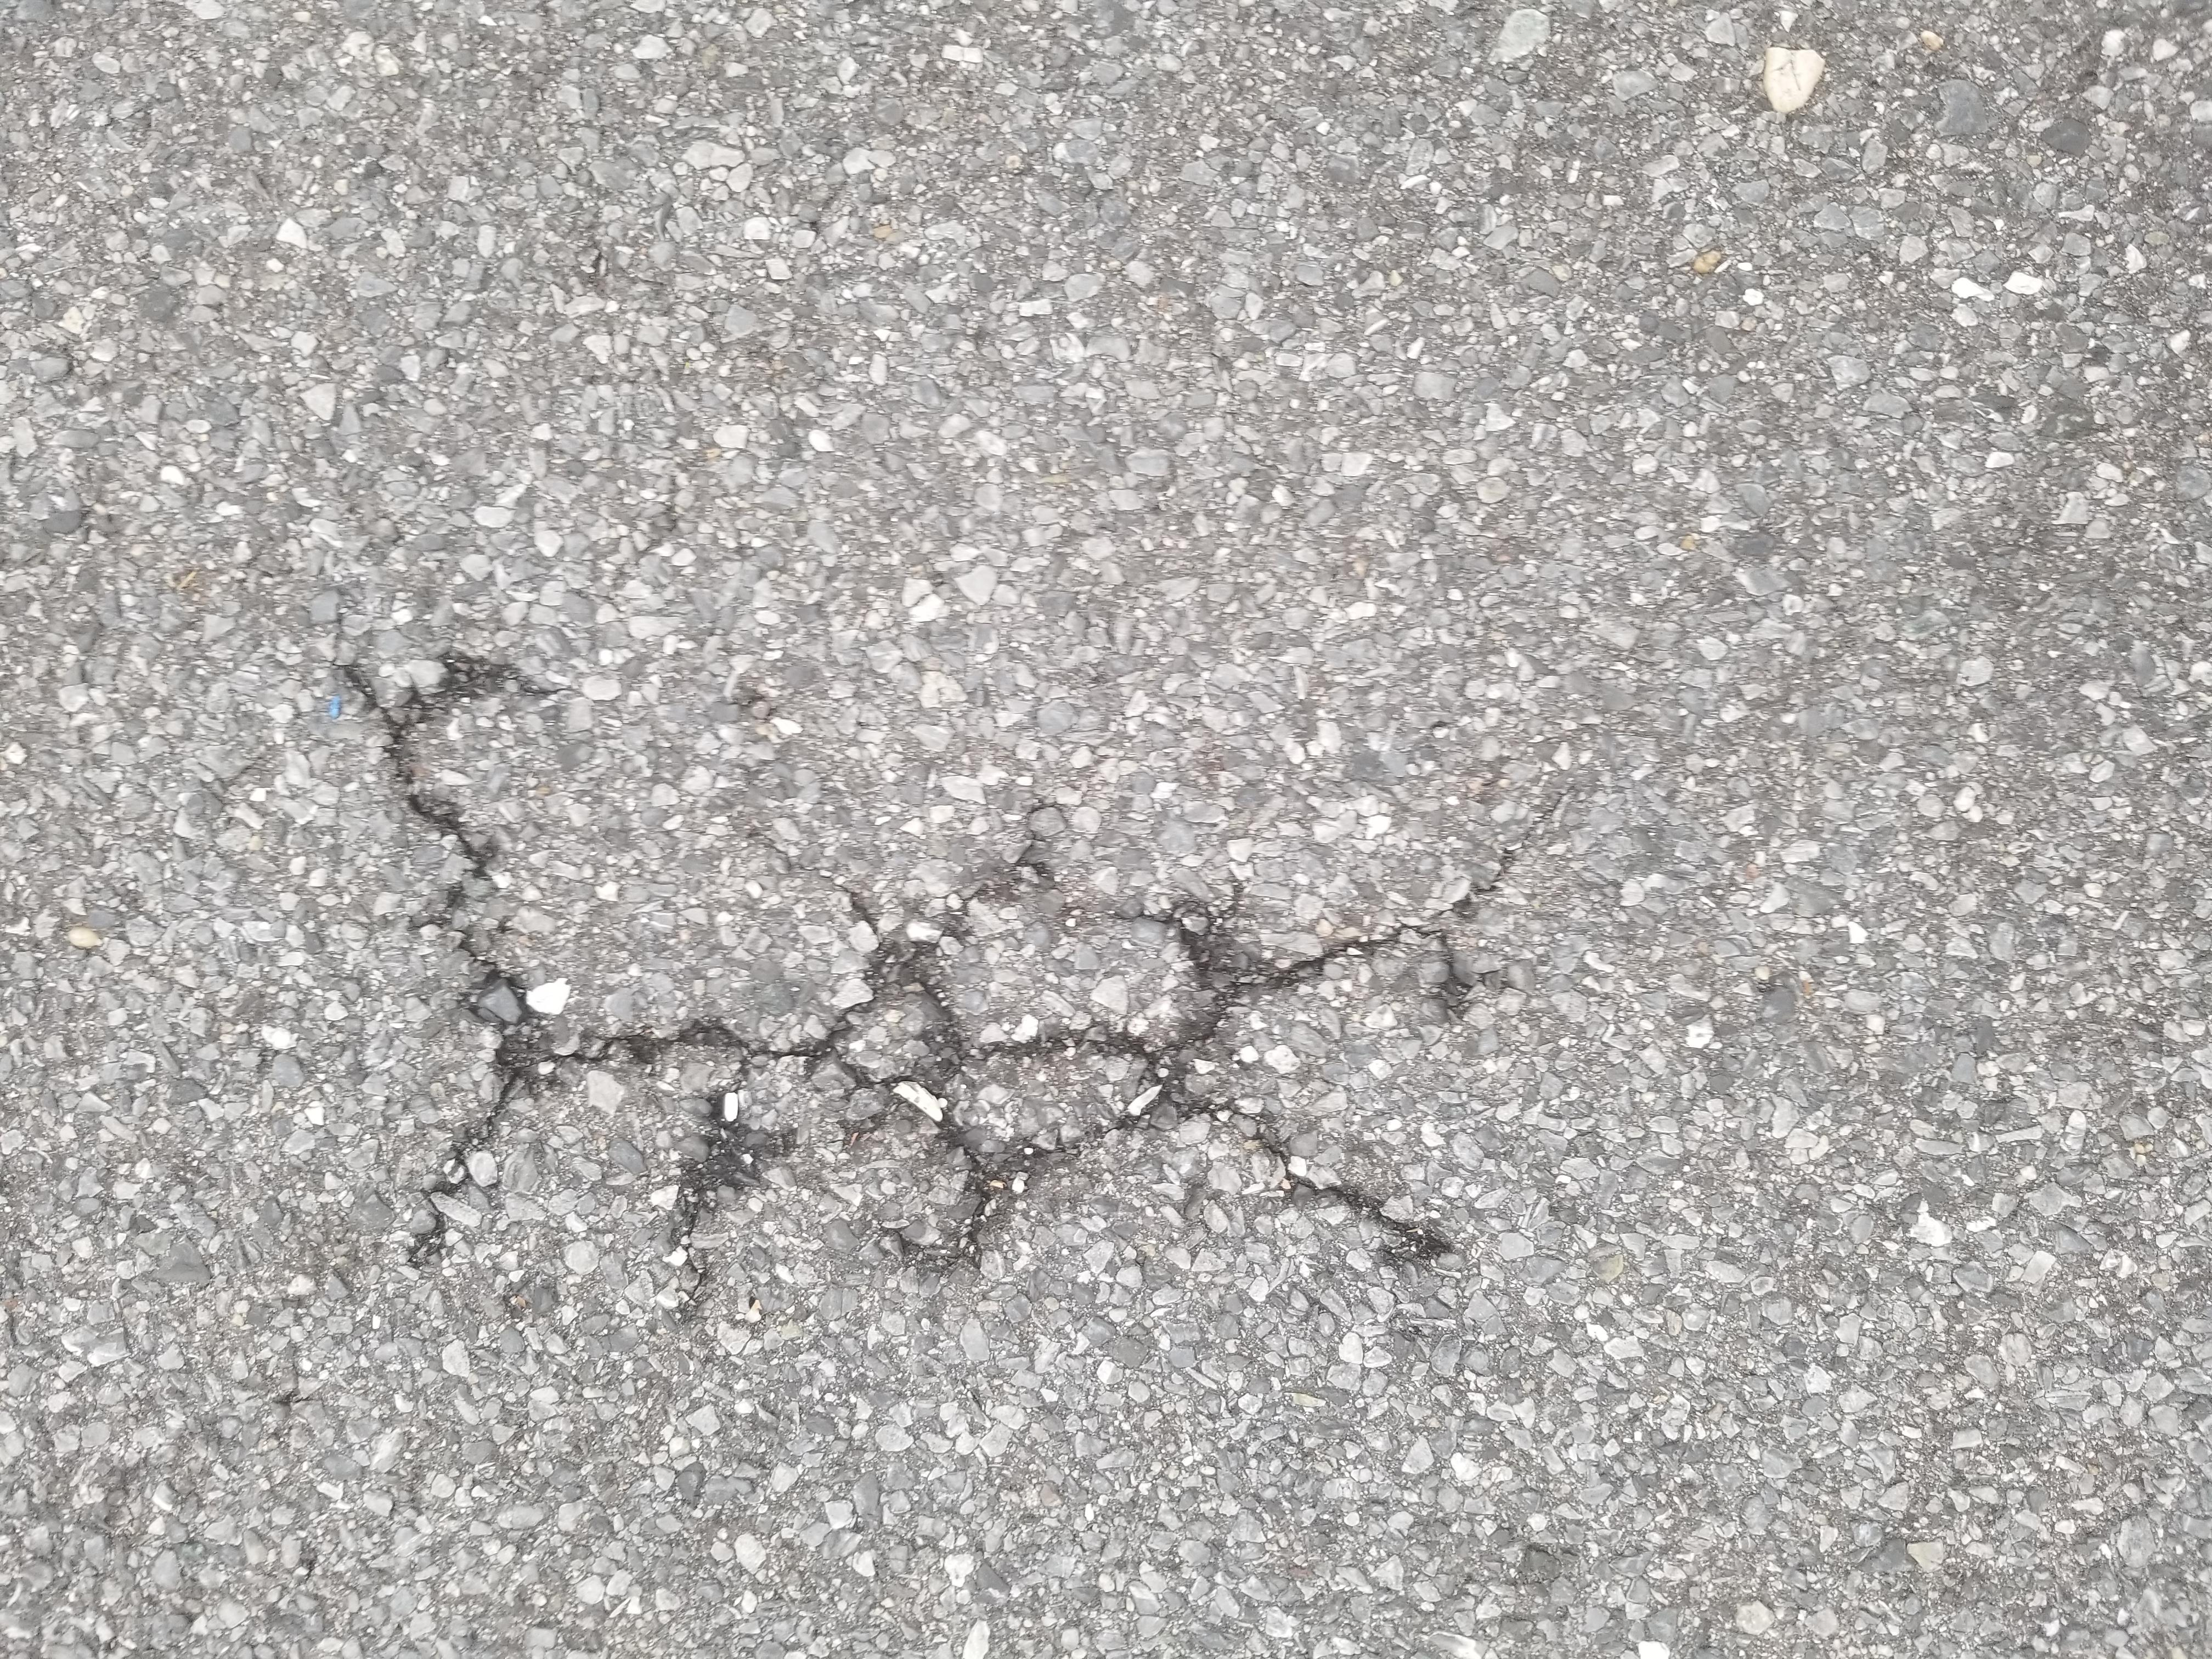crack: (411, 232, 1700, 1105)
